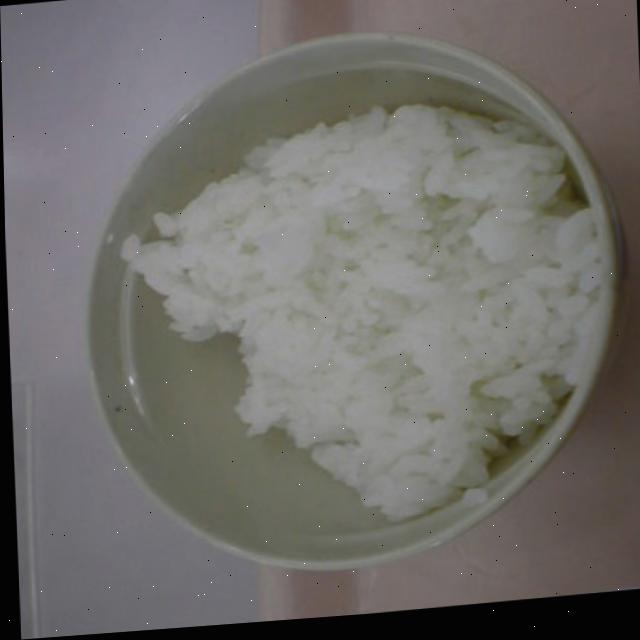米饭主食: (63, 21, 621, 582)
